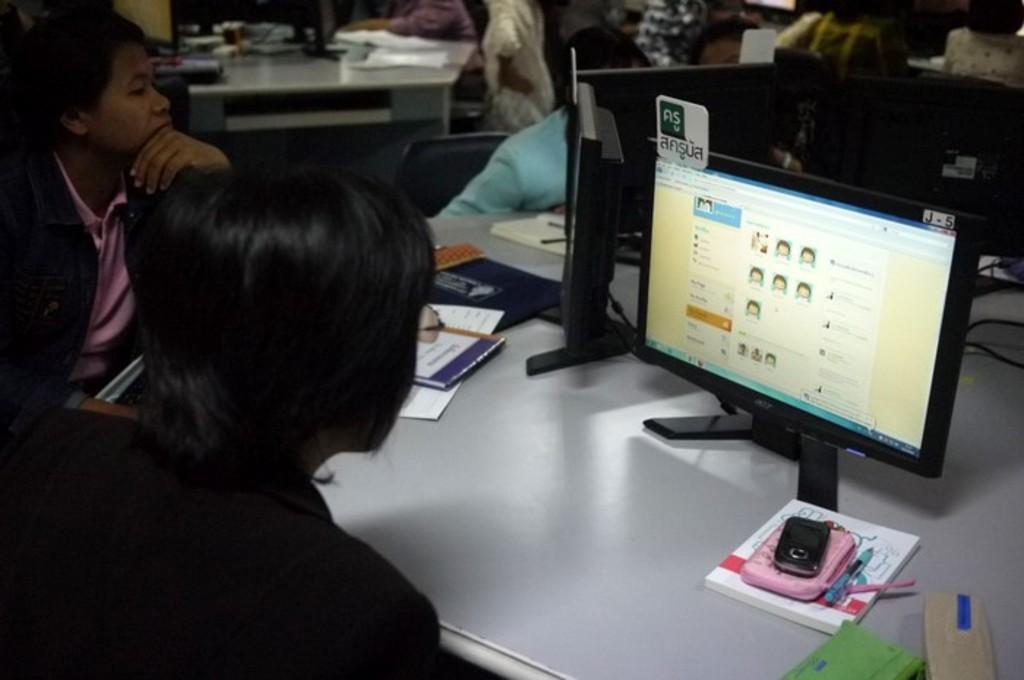Computer-monitor: (639, 120, 998, 534), (582, 63, 777, 265), (528, 47, 641, 376)
